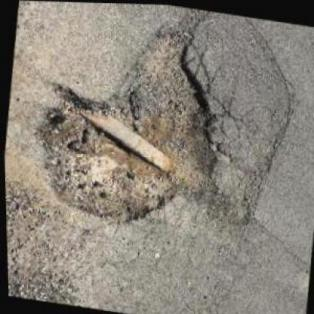Hueco: (20, 9, 237, 238)
